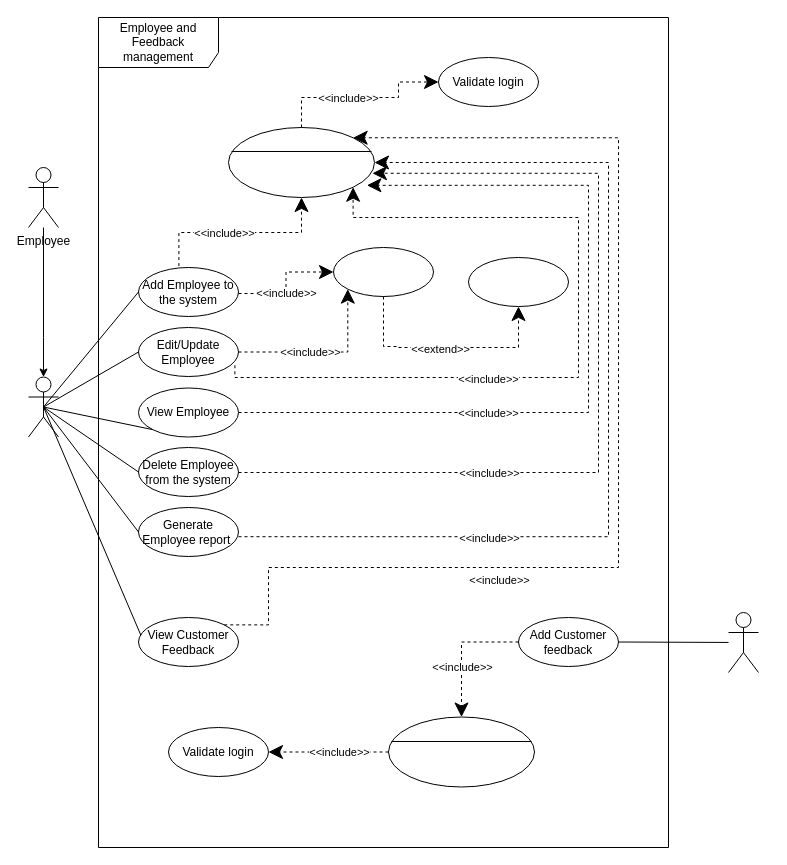
Some shapes in this 787 by 865 pixel diagram are drawn without their labels. The shapes that lost their labels are listed below. From the top down, each one's box as (x1, y1, x2, y2) in pixels, then its label:
(228, 126, 374, 198): Admin login Exp: username/password incorrect
(332, 246, 434, 296): Validate user input
(468, 256, 568, 306): Display validation message
(28, 376, 58, 437): Admin
(728, 612, 758, 672): Feedback
(388, 716, 534, 787): Customer login Exp: username/password incorrect
